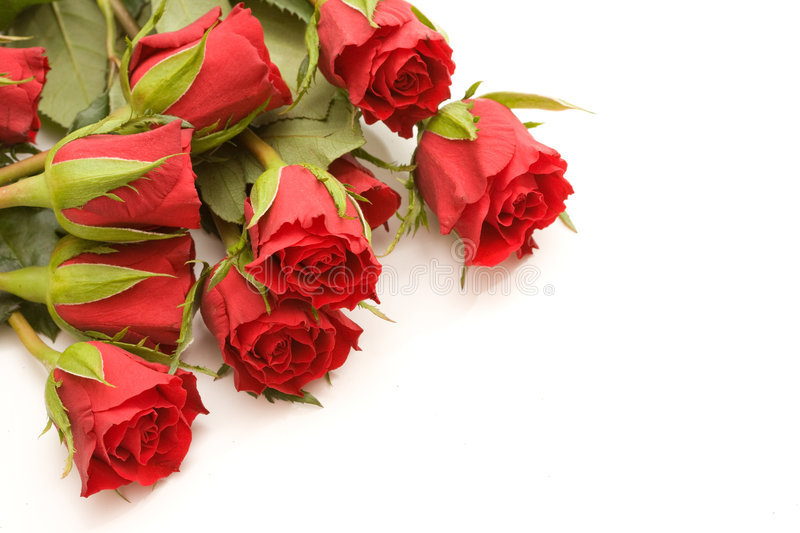RedRose: (29, 348, 194, 492), (31, 226, 194, 348), (185, 261, 346, 384), (443, 97, 568, 252), (119, 19, 312, 119), (297, 13, 457, 131), (233, 167, 377, 295), (75, 141, 205, 217), (331, 173, 410, 248), (2, 32, 49, 146)
